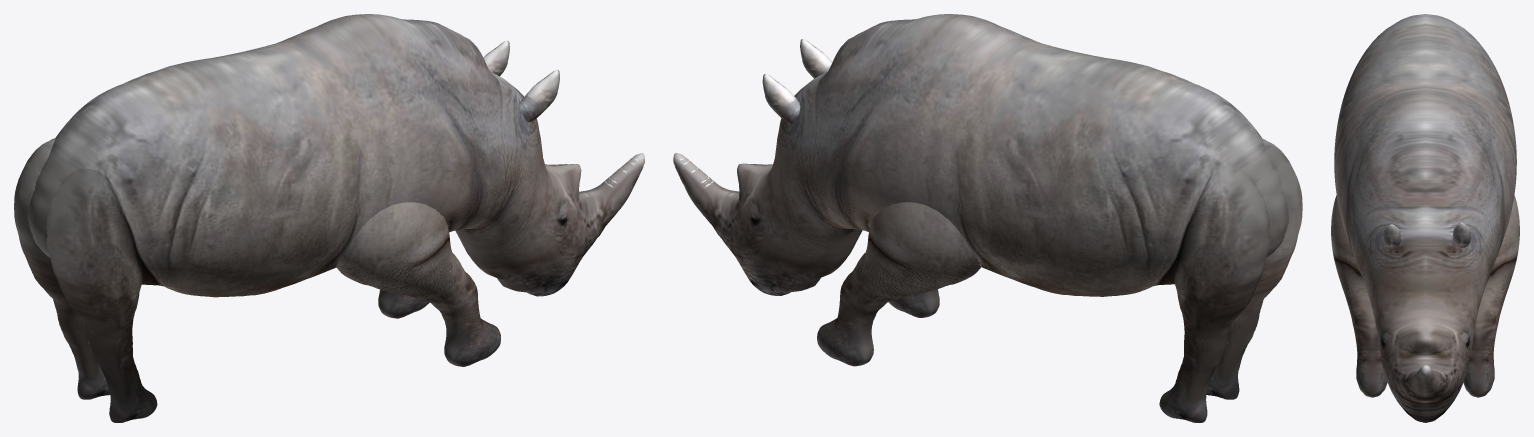
Rendered from black-rhino.glb.
The picture shows the model from 3 angles, left to right: view 1: azimuth 30°, elevation 25°; view 2: azimuth 150°, elevation 25°; view 3: azimuth 270°, elevation 25°; orthographic projection. The views are drawn at different scales.
Visible parts, largest first — view 1: mm_frame (24); view 2: mm_frame (24); view 3: mm_frame (24).
Boxes of the visible parts, <box> form: mm_frame (24): <box>14,14,644,422</box>; mm_frame (24): <box>673,14,1302,422</box>; mm_frame (24): <box>1331,14,1519,422</box>.
Bounding box in the file's own units: 8.97 × 4.73 × 3.
1 material, 1 textured.
